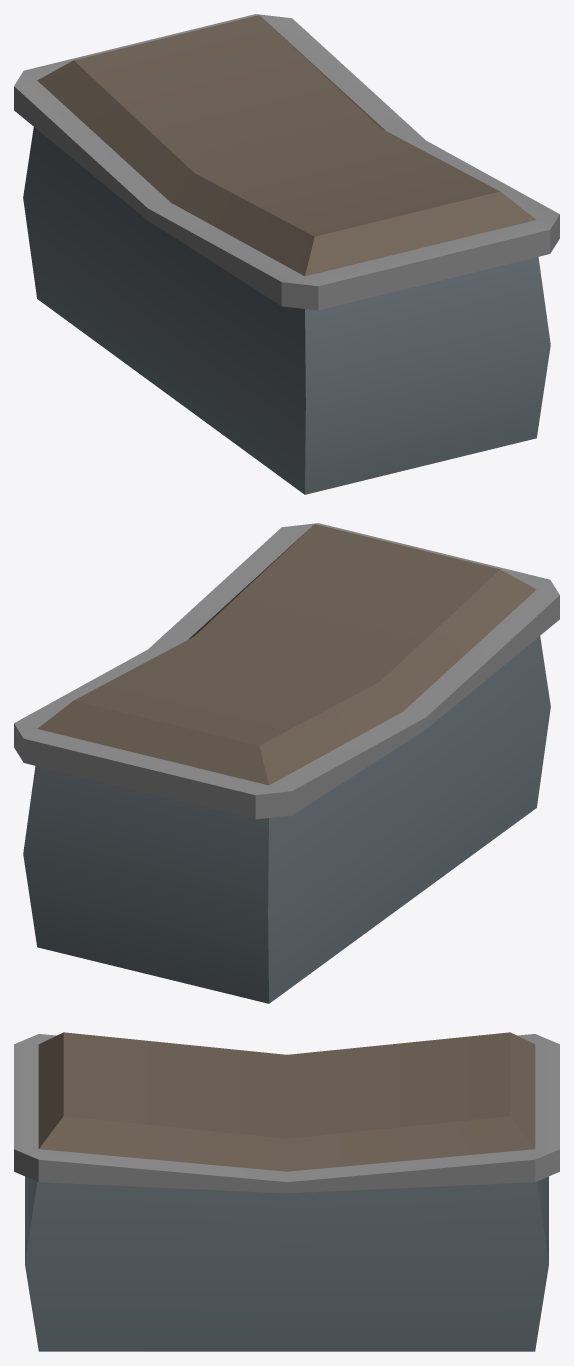
The model's file is window-box-1.glb.
3 renders of one model, top to bottom at view 1: azimuth 30°, elevation 25°; view 2: azimuth 150°, elevation 25°; view 3: azimuth 270°, elevation 25°, orthographic. The views are drawn at different scales.
Parts seen in each view (by area): view 1: Cube-col; view 2: Cube-col; view 3: Cube-col.
Boxes of the visible parts, x1,y1,x2,y2 form: Cube-col: (14,14,559,494); Cube-col: (14,523,559,1003); Cube-col: (14,1032,559,1351).
Size of the model in its own units: 1.2 by 1 by 2.21.
